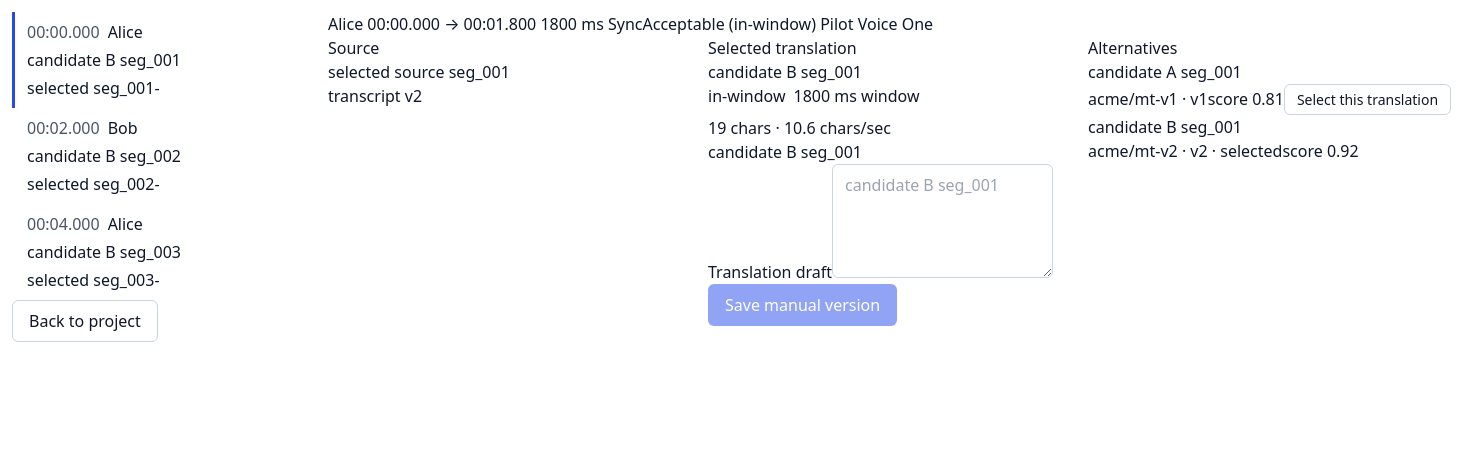
Scenario: TranslationWorkspace shell states › warns on stale versions while keeping drafts (recovery: refresh)
Expected: the option with test id "translation-row-seg_002" is shown, x1=12 y1=108 x2=312 y2=204
Selecting another candidate posts against a stale selection version.
Click the button with test id "translation-select-version-seg_001-tr1" at coordinates (1368, 100), box x1=1284 y1=84 x2=1451 y2=115
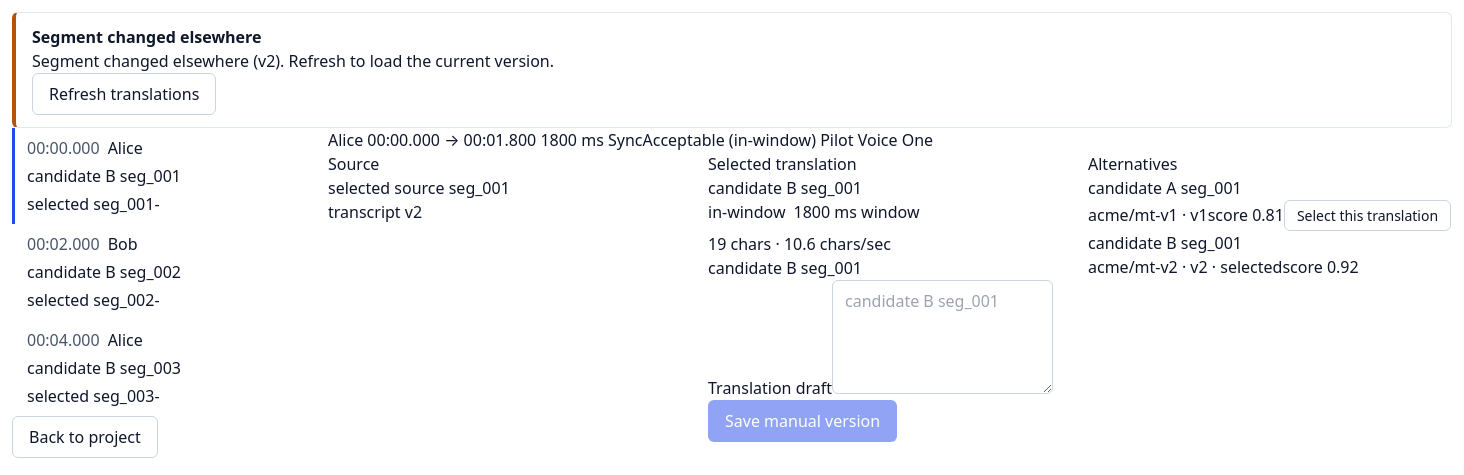
Now the element with test id "translation-stale-banner" is shown, box x1=12 y1=12 x2=1452 y2=128
Click the button with test id "translation-stale-refresh" at coordinates (124, 94), box x1=32 y1=73 x2=216 y2=115
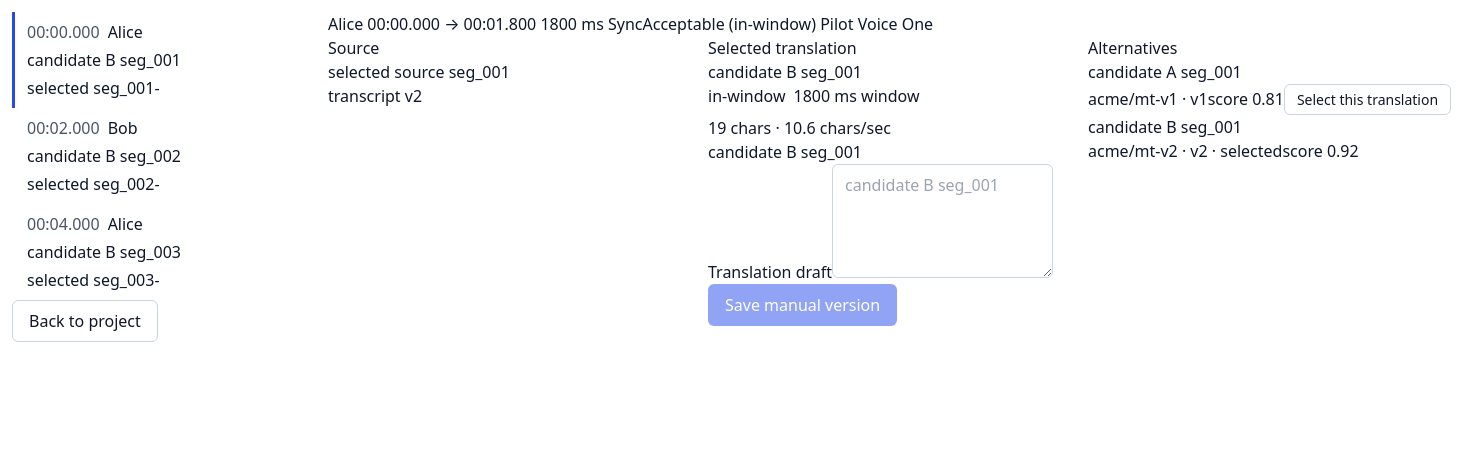
Now the element with test id "translation-stale-banner" is gone
